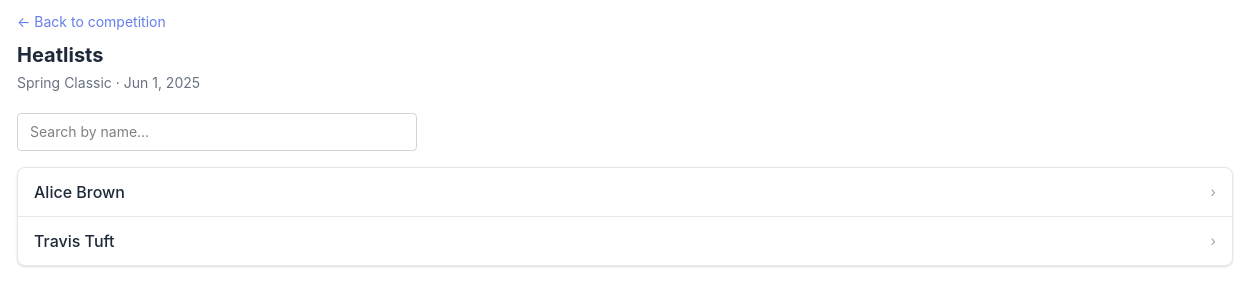
Scenario: PublicHeatListSearchPage › should filter people when searching
The width and height of the screenshot is (1250, 284).
Expected: the text "Travis Tuft" is shown, [34,231,114,251]
Type "trav" into the field with placeholder "Search by name..." at x=217, y=132, box [17,113,417,151]
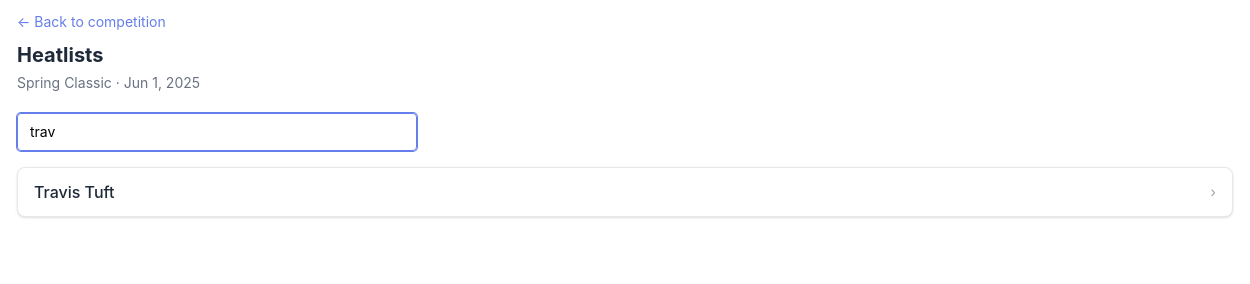
Expected: the text "Travis Tuft" is shown, [34,182,114,202]
Result: the link "Alice Brown" is gone
